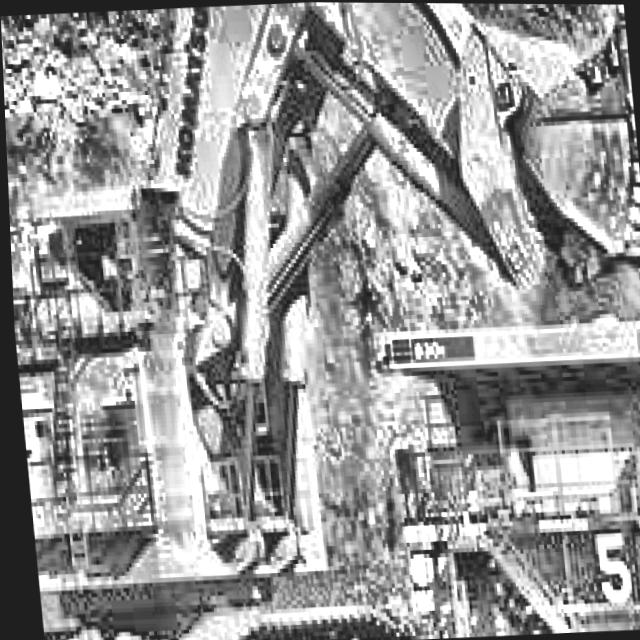dump_truck: (333, 280, 640, 640)
excavator: (0, 0, 640, 640)
